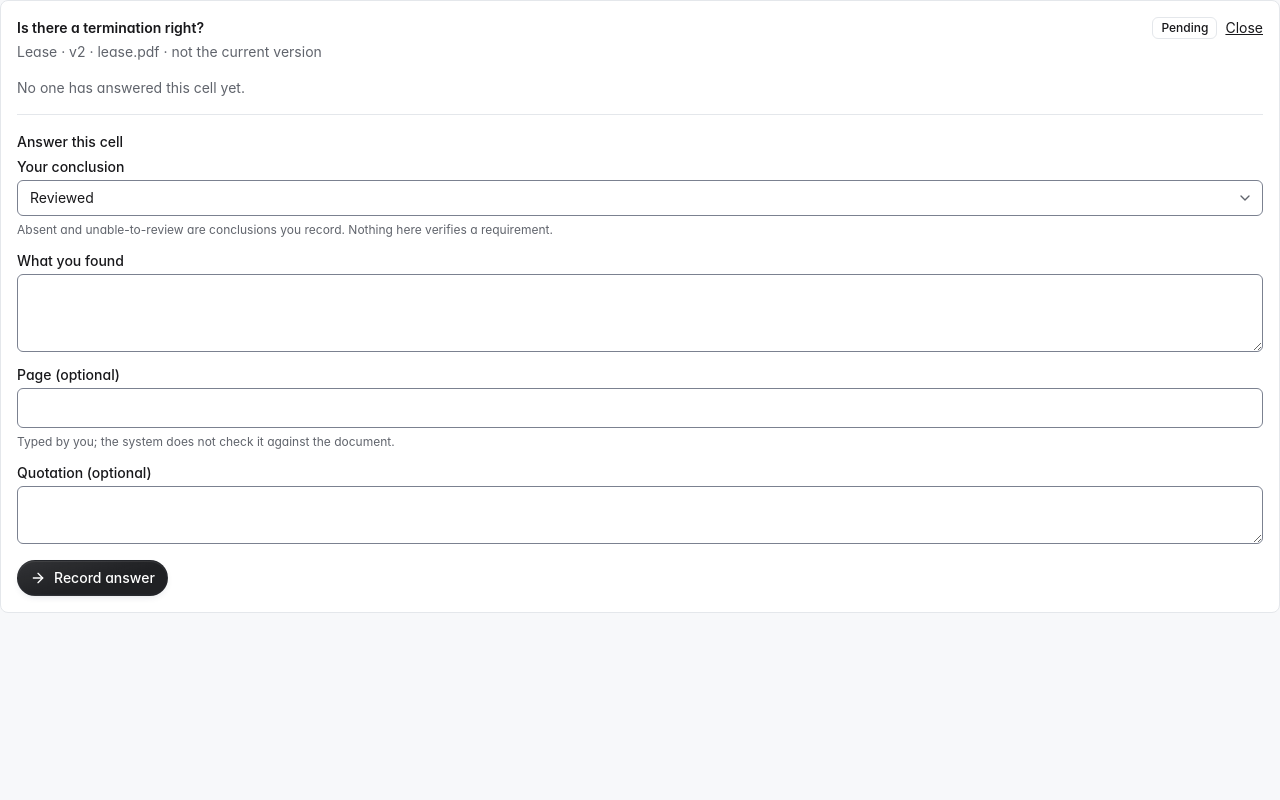
CellDetail › an empty cell is answered against 'none'; a conflict keeps the person's text and does not retry
Check: the text "No one has answered this cell yet." is shown, box [17, 79, 245, 96]
Step 1. Type "my careful note" into the text box labelled "What you found" → {"x": 640, "y": 313}, box [17, 274, 1263, 352]
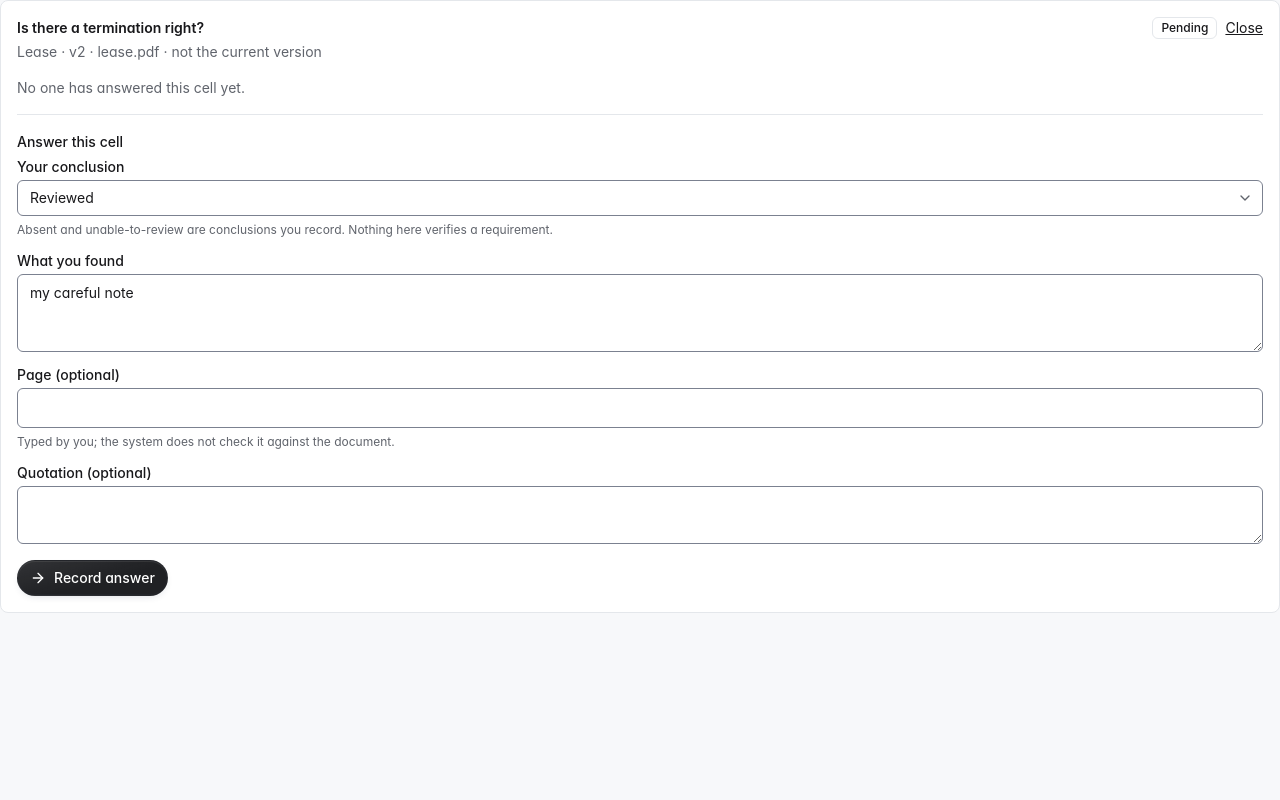
Step 2. Click the button "Record answer" → {"x": 92, "y": 578}, box [17, 560, 168, 596]
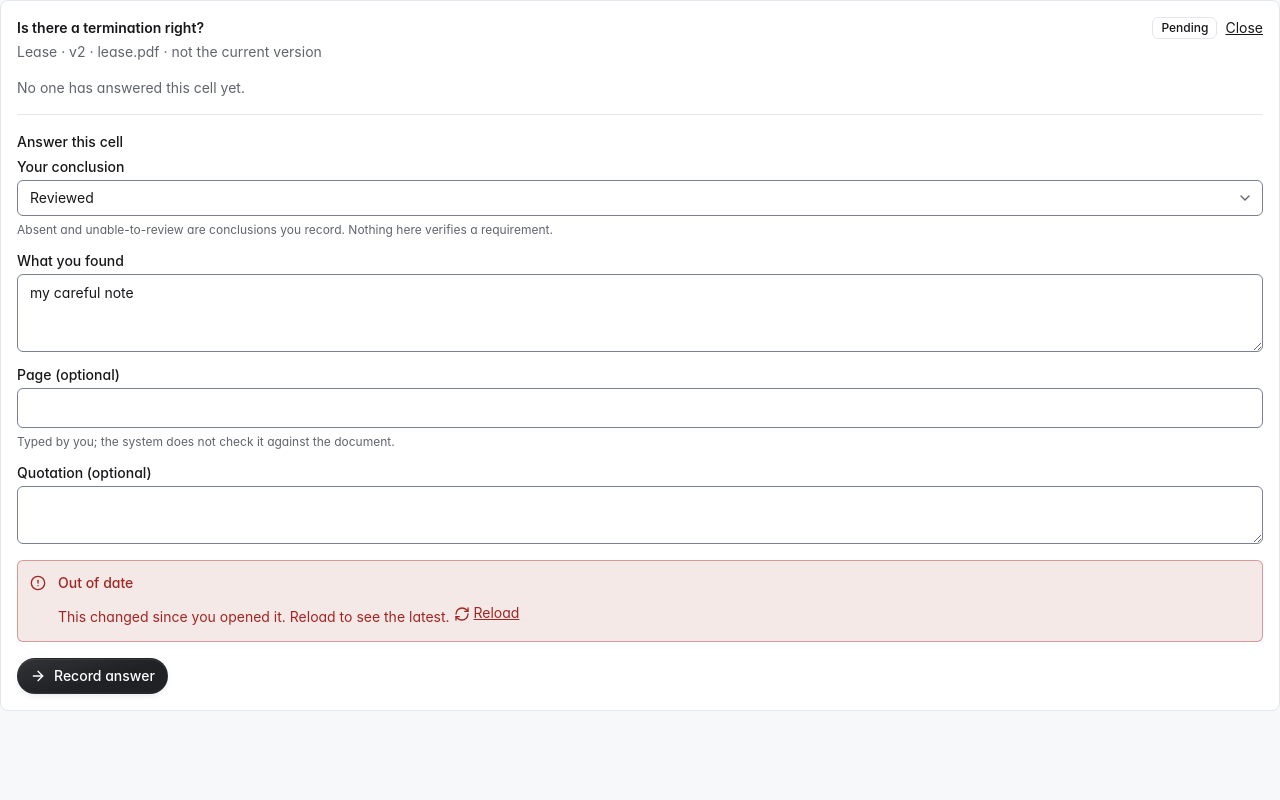
Check: the text "changed since you opened it" is shown, box [58, 608, 450, 625]
